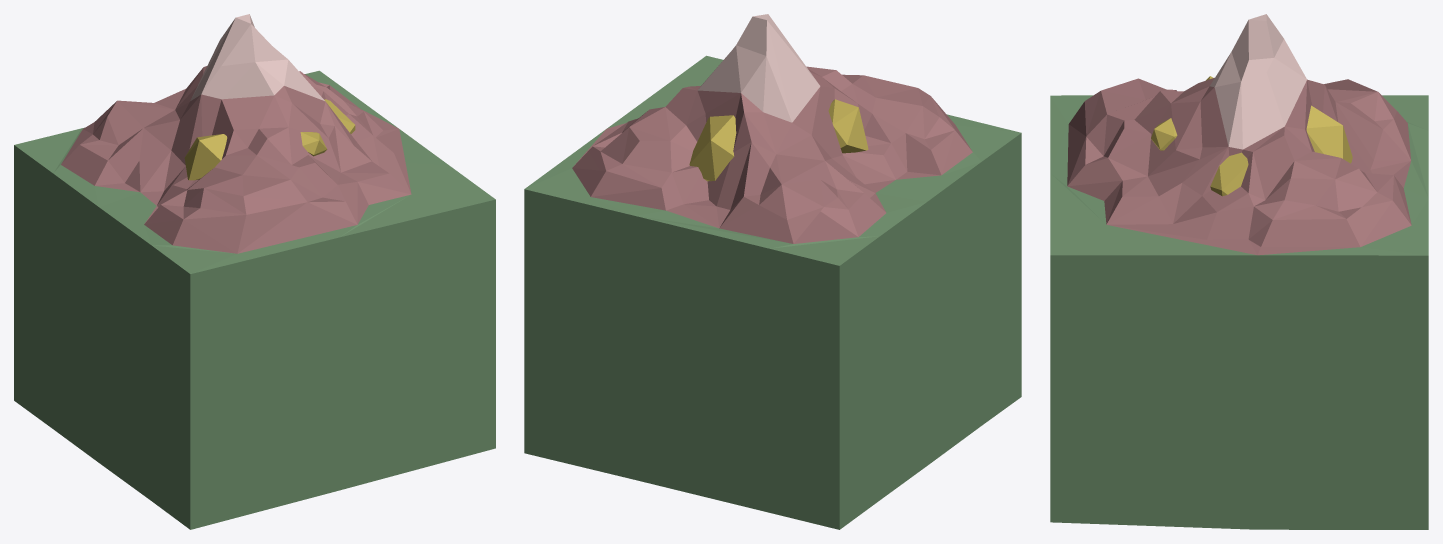
File: Gold_Mountain (1).fbx
3 views of the same model, side by side, from view 1: azimuth 30°, elevation 25°; view 2: azimuth 150°, elevation 25°; view 3: azimuth 270°, elevation 25° (orthographic). The views are drawn at different scales.
Parts seen in each view (by area): view 1: Plane; view 2: Plane; view 3: Plane.
Boxes of the visible parts, <box> form: Plane: <box>14,14,495,529</box>; Plane: <box>524,14,1021,529</box>; Plane: <box>1050,14,1428,529</box>.
Size of the model in its own units: 2000 by 2522 by 2000.
